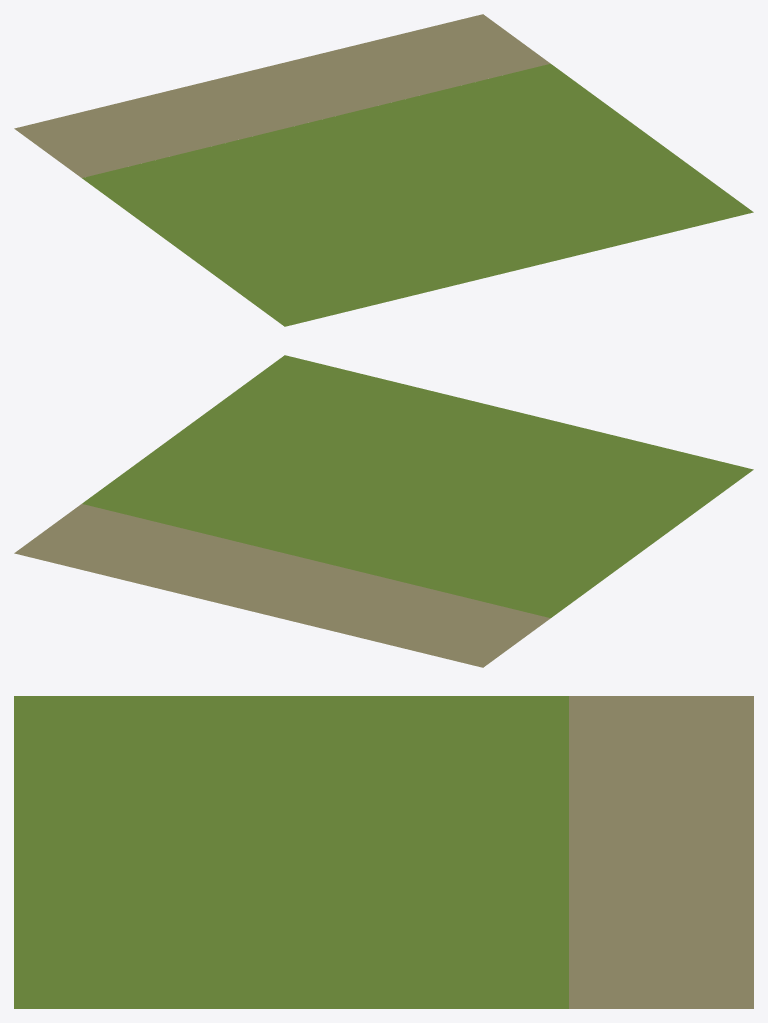
The model's file is cure-1-3.glb.
The picture shows the model from 3 angles, top to bottom: view 1: azimuth 30°, elevation 25°; view 2: azimuth 150°, elevation 25°; view 3: azimuth 270°, elevation 25°; orthographic projection. The views are drawn at different scales.
Visible parts, largest first — view 1: cure-1-3; view 2: cure-1-3; view 3: cure-1-3.
Boxes of the visible parts, left/top/right/bottom form: cure-1-3: left=14, top=14, right=753, bottom=326; cure-1-3: left=14, top=355, right=753, bottom=667; cure-1-3: left=14, top=696, right=753, bottom=1008.
Size of the model in its own units: 100 by 0.002 by 100.
